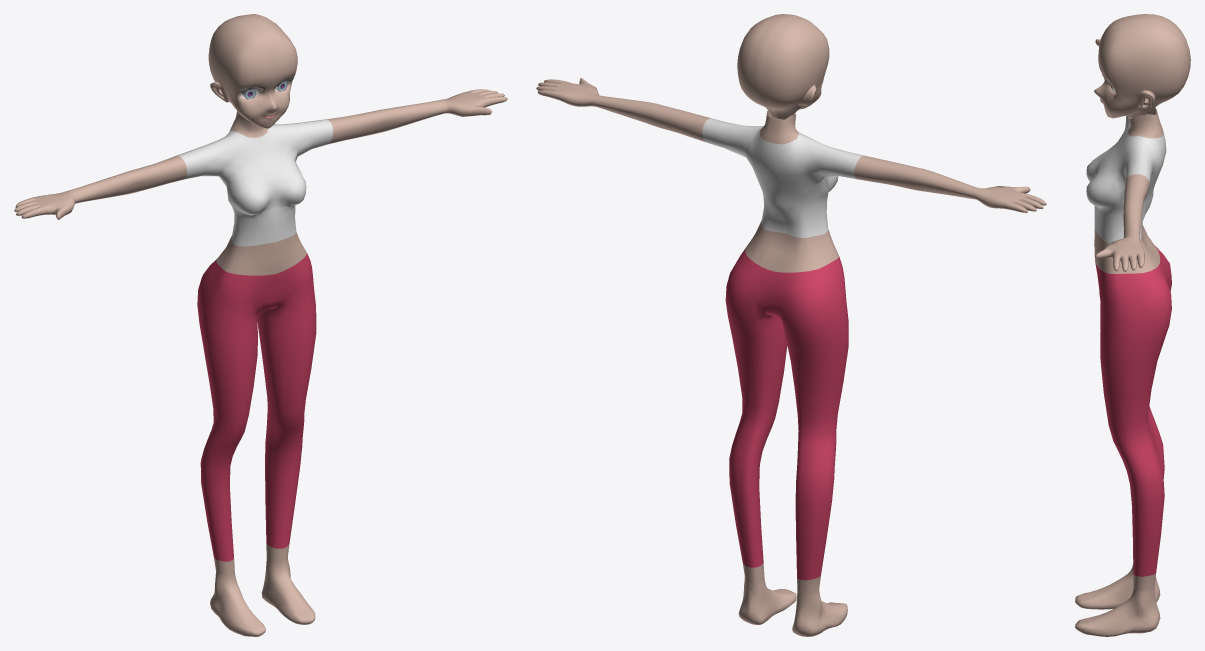
The model's file is ANIM_FULL.fbx.
The picture shows the model from 3 angles, left to right: view 1: azimuth 30°, elevation 25°; view 2: azimuth 150°, elevation 25°; view 3: azimuth 270°, elevation 25°; orthographic projection. The views are drawn at different scales.
Parts seen in each view (by area): view 1: CABECA_ZE; view 2: CABECA_ZE; view 3: CABECA_ZE.
Part boxes in pixels (x1,y1,x2,y2): CABECA_ZE: (14, 14, 507, 636); CABECA_ZE: (536, 14, 1046, 636); CABECA_ZE: (1075, 14, 1190, 636).
Bounding box in the file's own units: 130 × 150 × 26.21.
